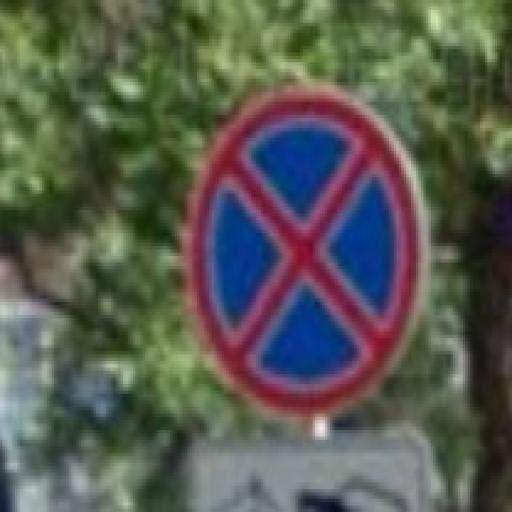traffic_sign: (193, 86, 427, 418)
